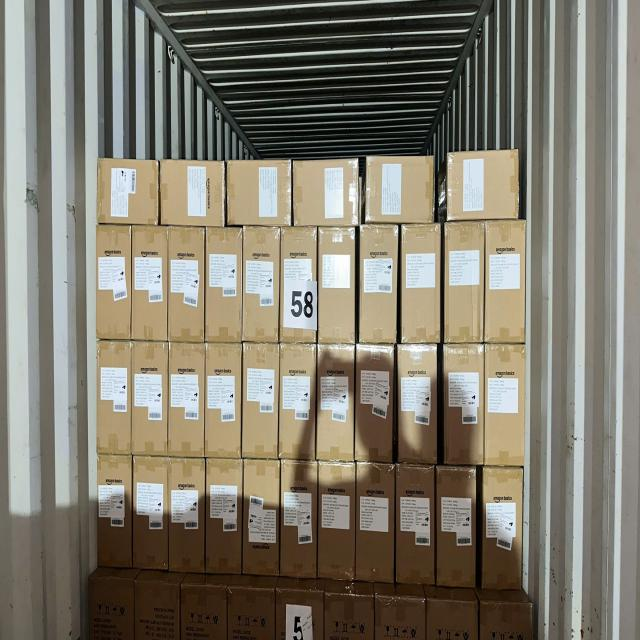Carton: (485, 345, 528, 468), (482, 469, 524, 594), (450, 150, 522, 221), (486, 222, 527, 345), (446, 345, 487, 468), (399, 345, 440, 466), (402, 226, 443, 345), (443, 224, 483, 345), (364, 154, 432, 225), (398, 464, 437, 586), (436, 467, 475, 588), (356, 462, 395, 583), (358, 229, 398, 345), (295, 158, 360, 229), (320, 461, 358, 582), (278, 460, 316, 580), (356, 342, 394, 461), (241, 458, 278, 578), (240, 228, 278, 344), (170, 229, 208, 344), (240, 341, 278, 456), (170, 457, 207, 575), (229, 160, 293, 228), (162, 160, 226, 228), (132, 226, 169, 343), (319, 344, 356, 461), (206, 459, 242, 579), (170, 342, 208, 455), (321, 230, 358, 346), (279, 343, 316, 458), (96, 161, 158, 229), (205, 343, 242, 456), (132, 341, 169, 454), (133, 458, 169, 574), (94, 456, 130, 570), (206, 230, 242, 344), (280, 230, 316, 344), (94, 226, 129, 342), (95, 340, 130, 454), (89, 571, 137, 640), (133, 578, 179, 640), (274, 587, 324, 640), (180, 584, 227, 640), (229, 587, 277, 640), (325, 593, 375, 640), (480, 600, 537, 640), (376, 597, 428, 640), (426, 598, 478, 640)
